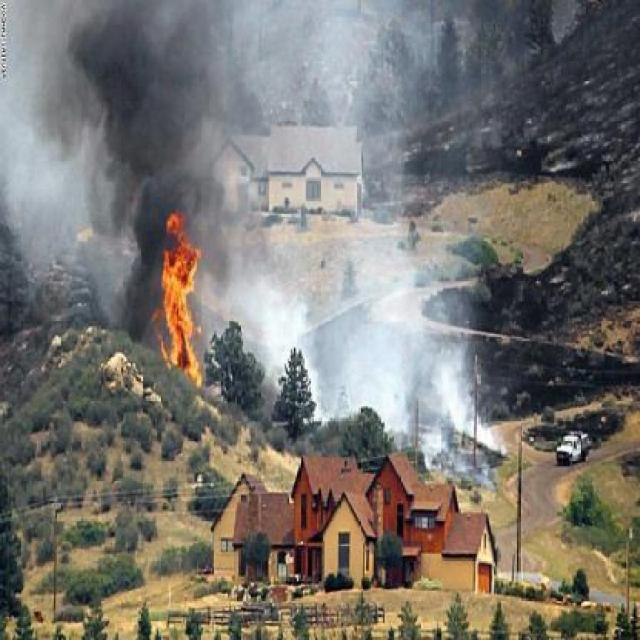Fire: (131, 224, 229, 410)
Smoke: (6, 0, 545, 457)
